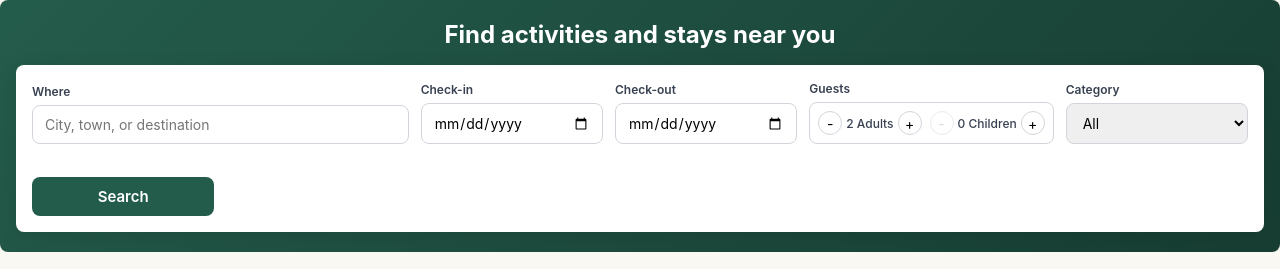
it: SearchHero - Compact Layout › updates children count when +/- buttons are clicked
Click the button named "Increase children": x=1033, y=123 [1021,111,1045,135]
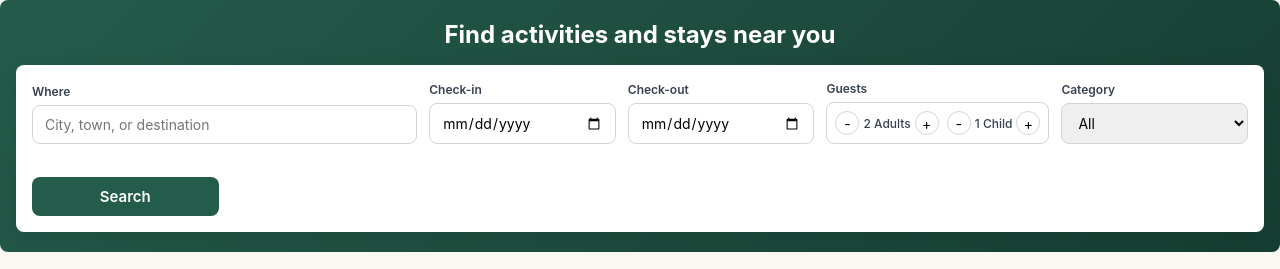
expect the text "1 Child" is shown: met, box [975,116,1012,130]
Click the button named "Increase children": x=1028, y=123 [1016,111,1040,135]
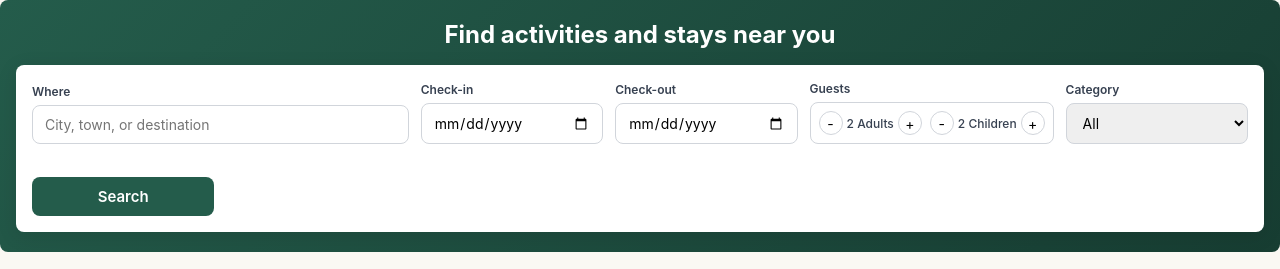
expect the text "2 Children" is shown: met, box [958,116,1017,130]
